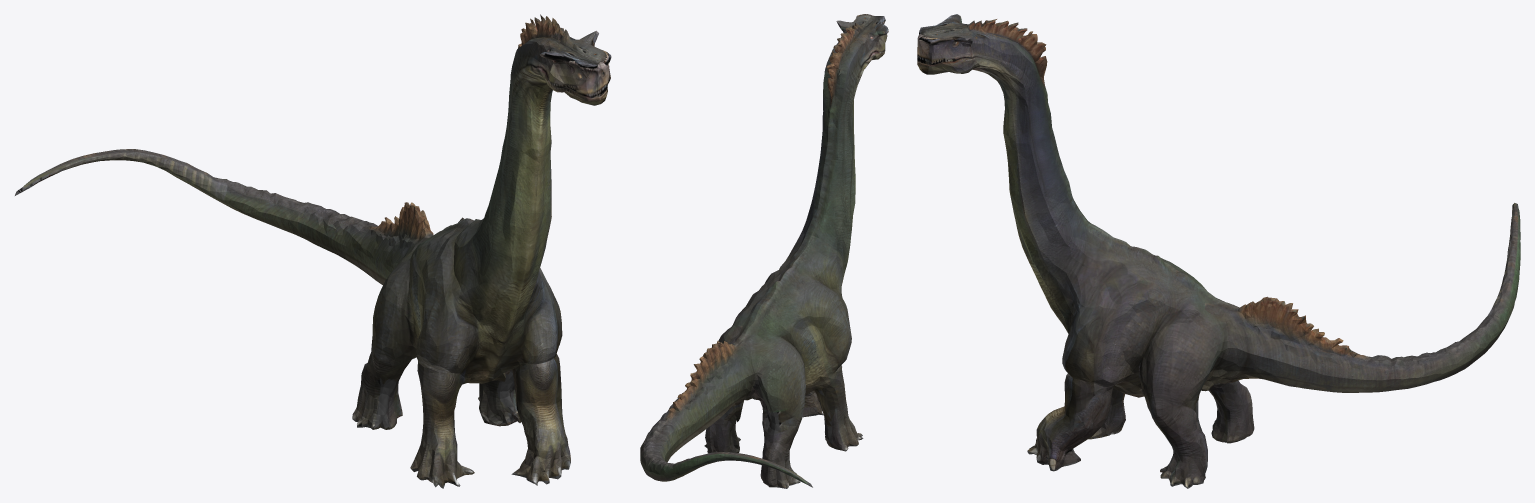
The picture shows the model from 3 angles, left to right: view 1: azimuth 30°, elevation 25°; view 2: azimuth 150°, elevation 25°; view 3: azimuth 270°, elevation 25°; orthographic projection. The views are drawn at different scales.
Parts seen in each view (by area): view 1: temp; view 2: temp; view 3: temp.
Part boxes in pixels (box(x1,y1,x2,y2)): temp: box(15, 14, 611, 488); temp: box(640, 14, 888, 488); temp: box(917, 14, 1520, 488).
Bounding box in the file's own units: 1.11 × 1.59 × 1.99.
1 material, 1 textured.
